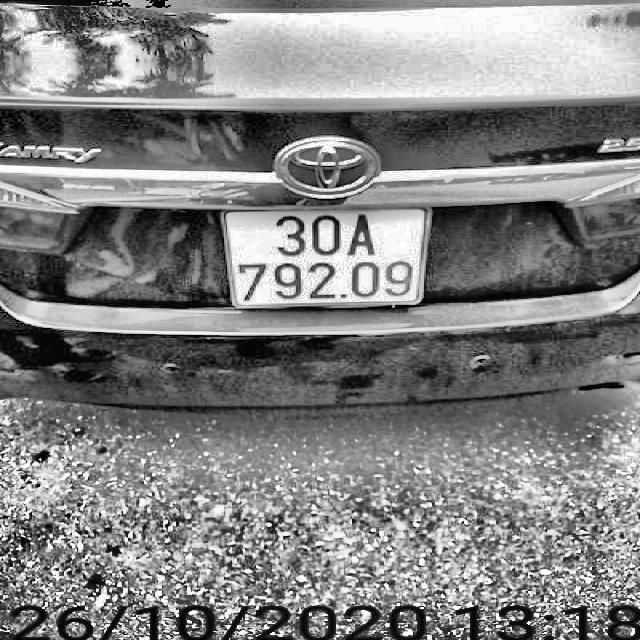plate: (214, 200, 436, 316)
